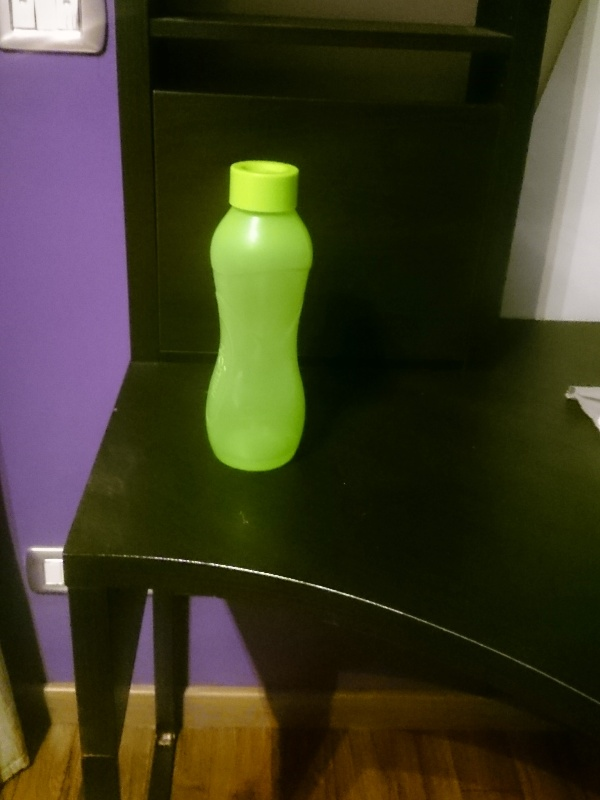my bottle: (201, 160, 316, 472)
